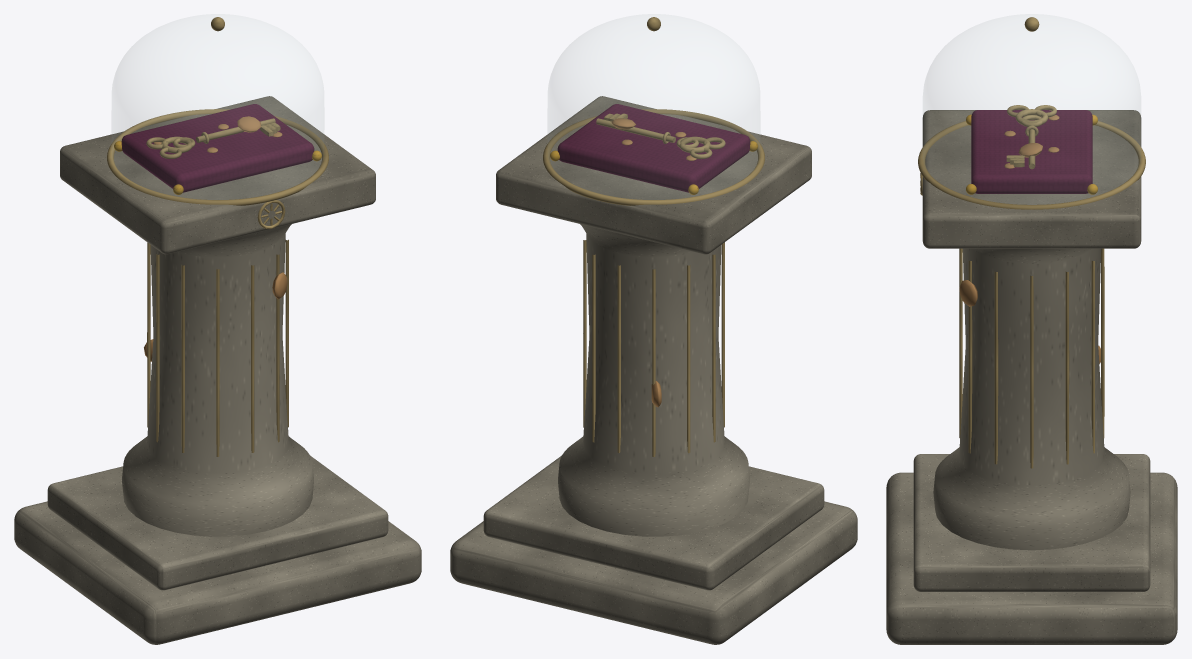
3 renders of one model, left to right at view 1: azimuth 30°, elevation 25°; view 2: azimuth 150°, elevation 25°; view 3: azimuth 270°, elevation 25°, orthographic. The views are drawn at different scales.
Parts seen in each view (by area): view 1: dressed stone, tooled stone trim, blown glass, aged brass fittings, velvet cushion, peened pin; view 2: dressed stone, tooled stone trim, blown glass, aged brass fittings, velvet cushion; view 3: dressed stone, blown glass, tooled stone trim, aged brass fittings, velvet cushion, peened pin.
Part boxes in pixels (x1,y1,x2,y2): dressed stone: (14,224,421,644); tooled stone trim: (47,96,388,590); blown glass: (112,14,323,199); aged brass fittings: (107,17,328,456); velvet cushion: (121,104,314,192); peened pin: (144,116,287,361); dressed stone: (450,224,857,644); tooled stone trim: (483,96,824,590); blown glass: (548,14,759,199); aged brass fittings: (543,17,764,456); velvet cushion: (557,104,750,192); dressed stone: (886,248,1177,644); blown glass: (923,14,1140,204); tooled stone trim: (913,110,1150,591); aged brass fittings: (918,17,1145,468); velvet cushion: (971,110,1092,193); peened pin: (959,143,1100,363).
Bounding box in the file's own units: 0.54 × 1.02 × 0.48.
Materials: 7 (5 with a texture image).
